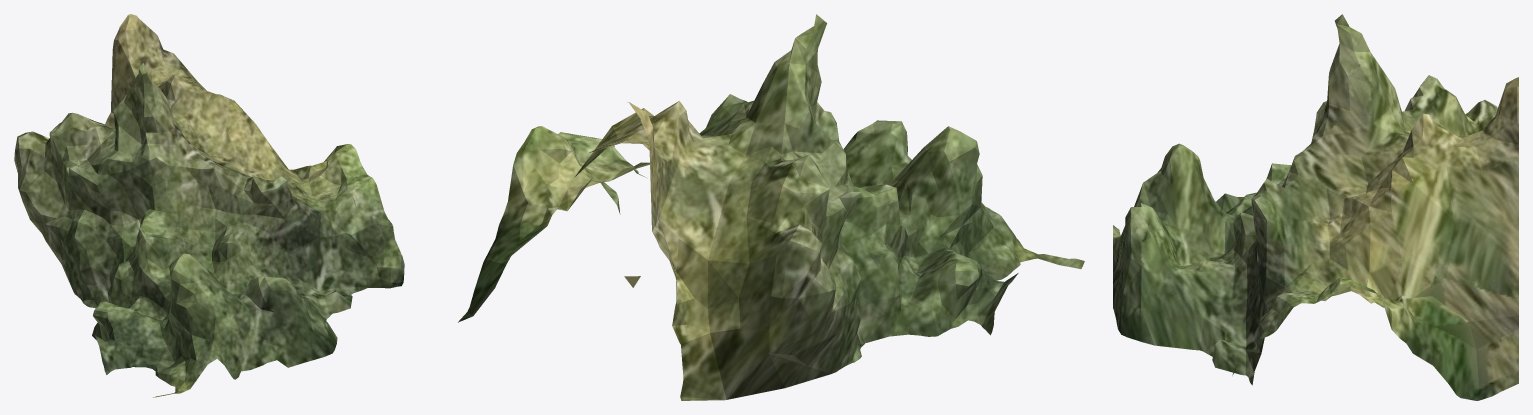
3 renders of one model, left to right at view 1: azimuth 30°, elevation 25°; view 2: azimuth 150°, elevation 25°; view 3: azimuth 270°, elevation 25°, orthographic. The views are drawn at different scales.
Bounding box in the file's own units: 5.9 × 4.35 × 5.9.
4 materials, 4 textured.
